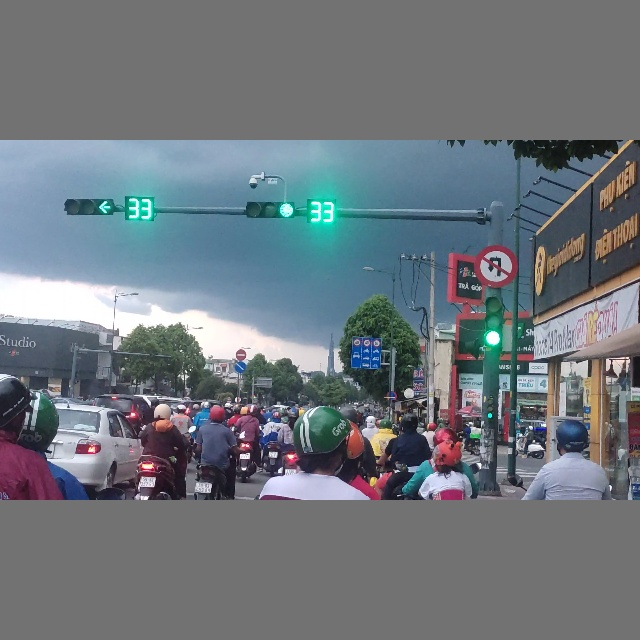P.102: (234, 349, 246, 361)
P.124a*: (475, 243, 517, 288)
R.302a: (234, 361, 246, 373)
R.415a: (349, 336, 381, 369)
